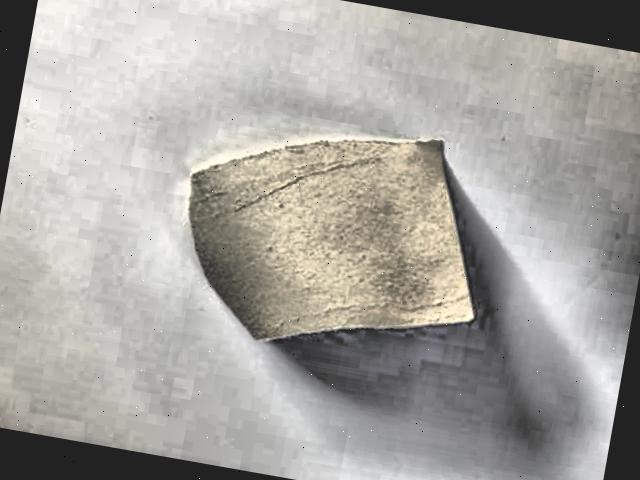Paper: (158, 82, 524, 422)
